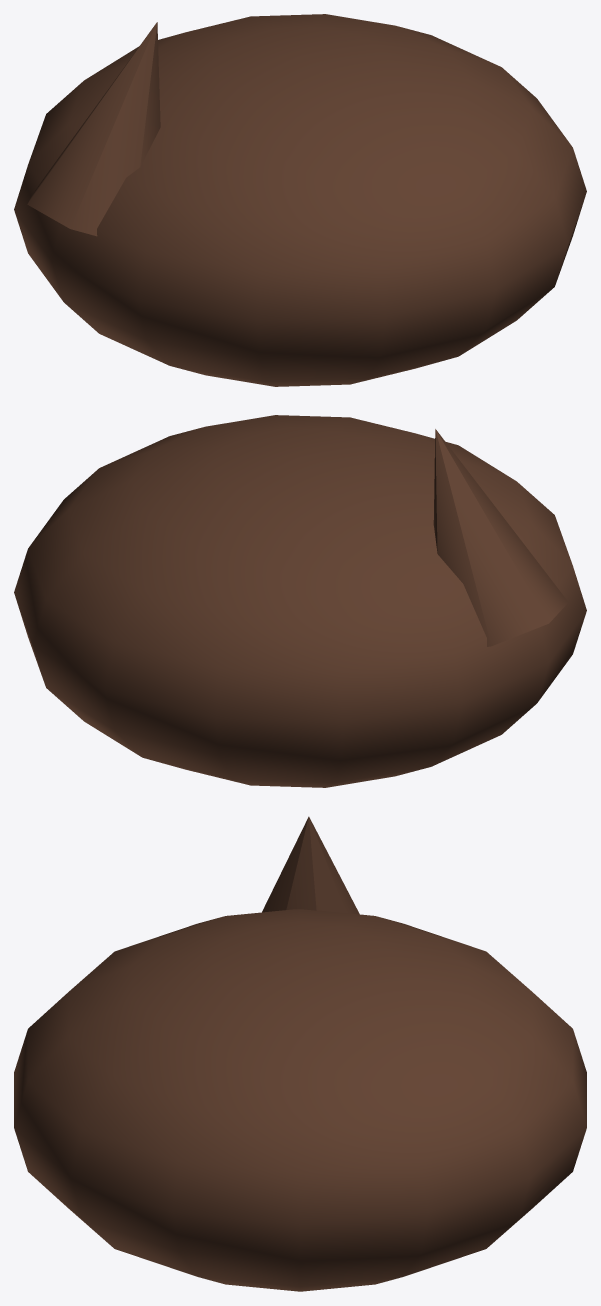
The model's file is short_hair.glb.
3 views of the same model, one above another, from view 1: azimuth 30°, elevation 25°; view 2: azimuth 150°, elevation 25°; view 3: azimuth 270°, elevation 25° (orthographic). The views are drawn at different scales.
Visible parts, largest first — view 1: hair_cap, hair_detail_1; view 2: hair_cap, hair_detail_1; view 3: hair_cap, hair_detail_1.
Part boxes in pixels (<box>): hair_cap: <box>14,14,586,386</box>; hair_detail_1: <box>27,22,160,236</box>; hair_cap: <box>14,415,586,787</box>; hair_detail_1: <box>433,429,568,646</box>; hair_cap: <box>14,909,586,1291</box>; hair_detail_1: <box>262,816,359,914</box>.
Size of the model in its own units: 0.717 by 0.4746 by 0.6824.
